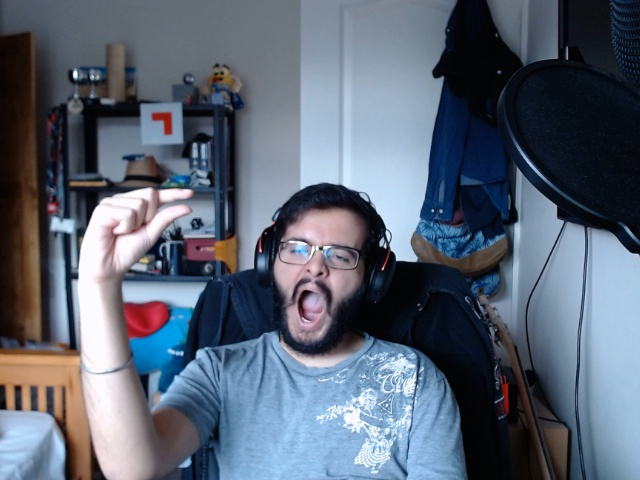Small: (64, 170, 211, 289)
